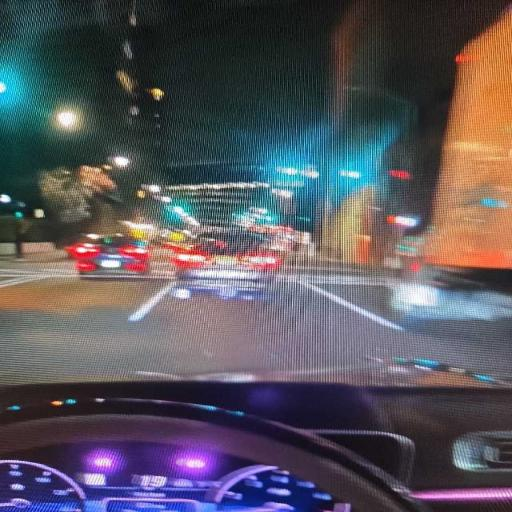car: (172, 231, 281, 281), (70, 234, 150, 276)
lane: (0, 272, 510, 382), (133, 280, 394, 375), (322, 284, 511, 376), (0, 277, 161, 383), (302, 281, 403, 330)
truck: (392, 10, 511, 327)
